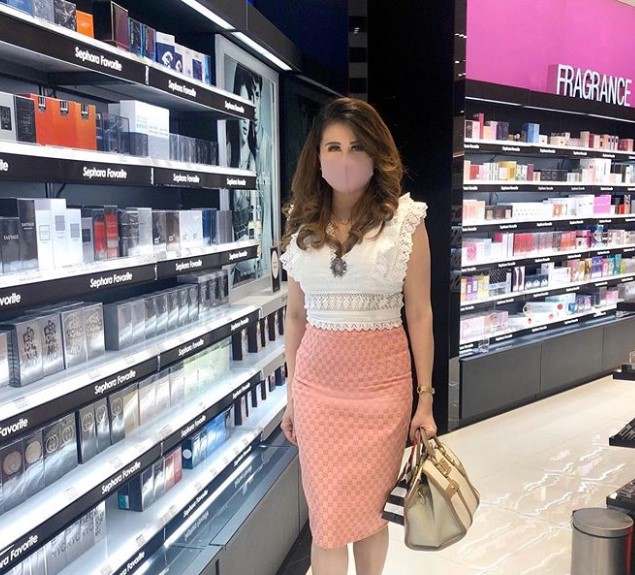face_with_mask: (313, 101, 377, 190)
